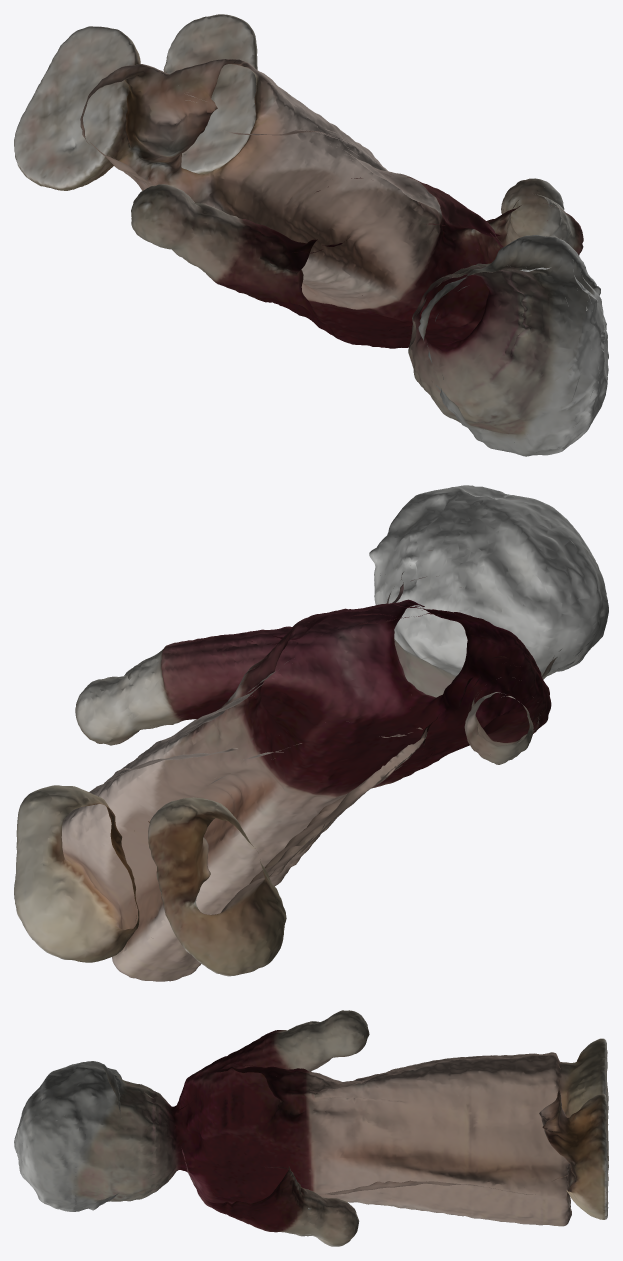
Rendered from grandmother.glb.
3 renders of one model, top to bottom at view 1: azimuth 30°, elevation 25°; view 2: azimuth 150°, elevation 25°; view 3: azimuth 270°, elevation 25°, orthographic. The views are drawn at different scales.
Bounding box in the file's own units: 0.6034 × 0.2999 × 1.
